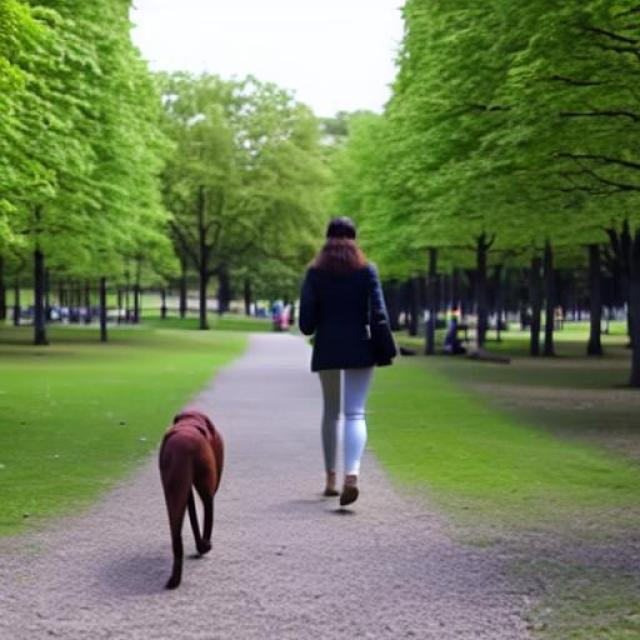Unleashed_Dog: (156, 370, 378, 591)
